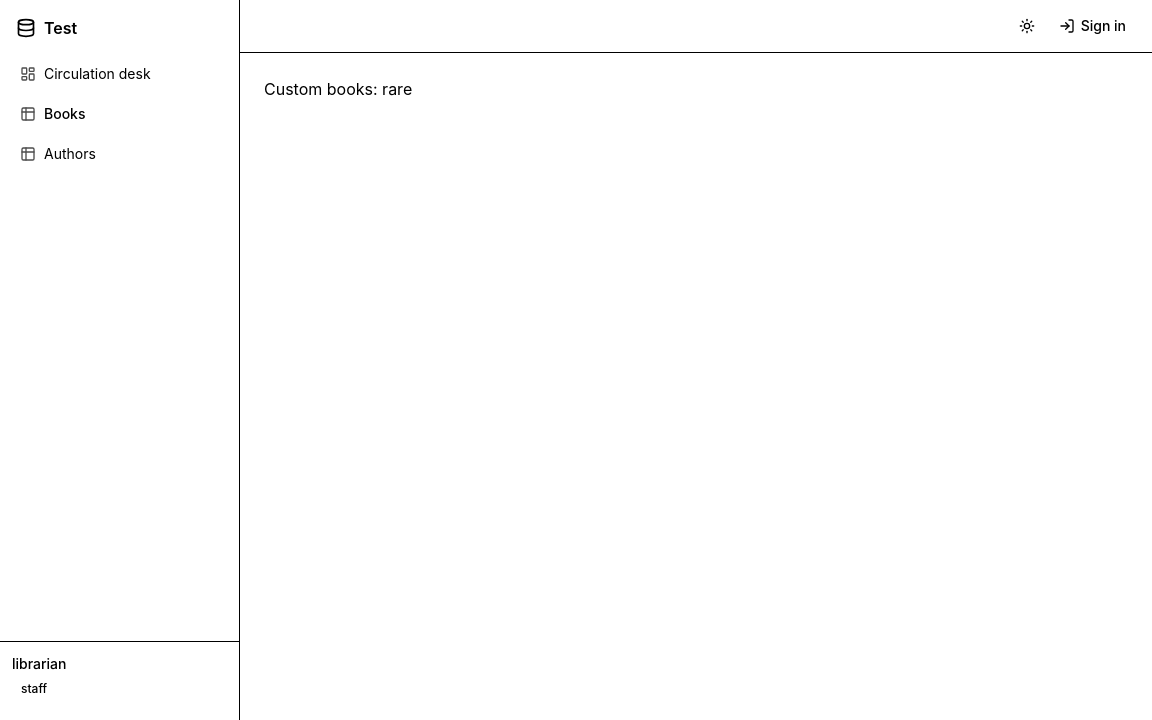
Test: the panel › renders customResourceViews and customPages inside the panel layout
Check: the text "Custom books: rare" is shown, box [264,79,412,99]
Click the link "Circulation desk" at (85, 74), box [20,65,151,82]
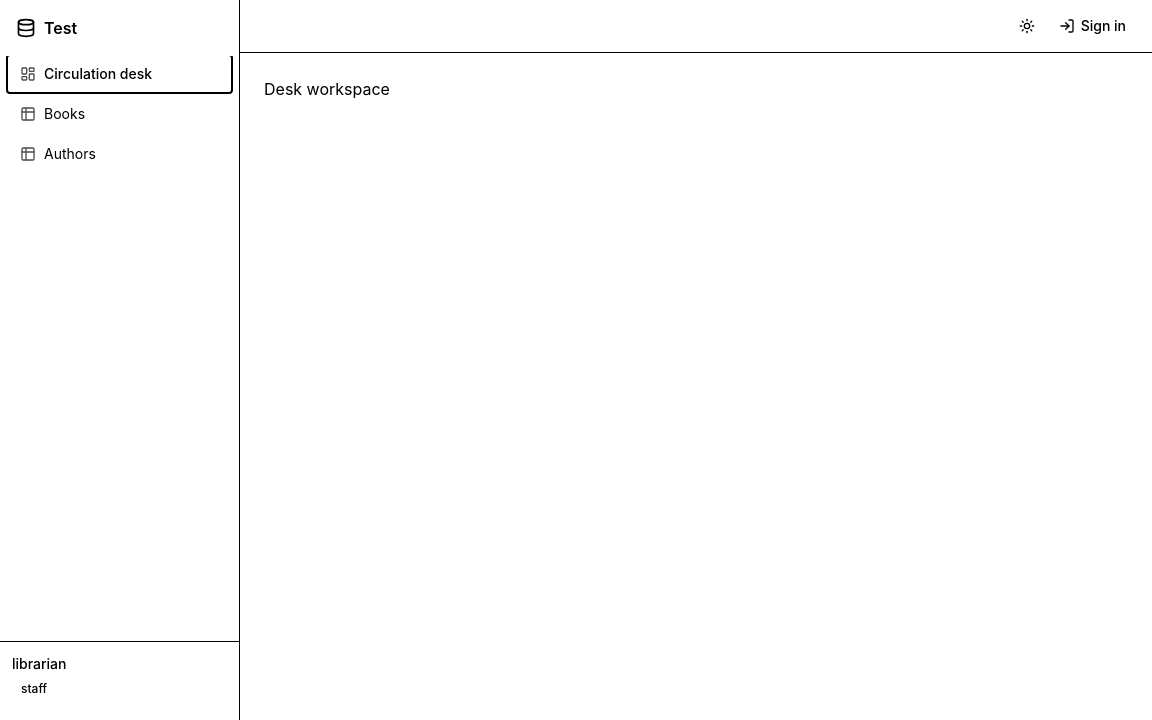
Check: the text "Desk workspace" is shown, box [264,79,390,99]
